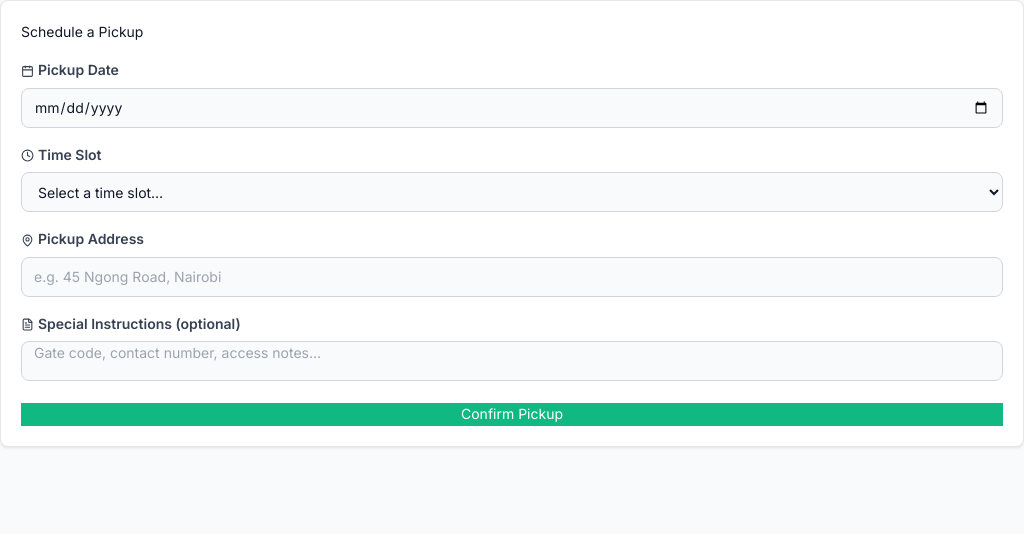
Test: PickupScheduler › clears address error when field is filled
Click the button "Confirm Pickup": [512, 414] box [21, 403, 1003, 426]
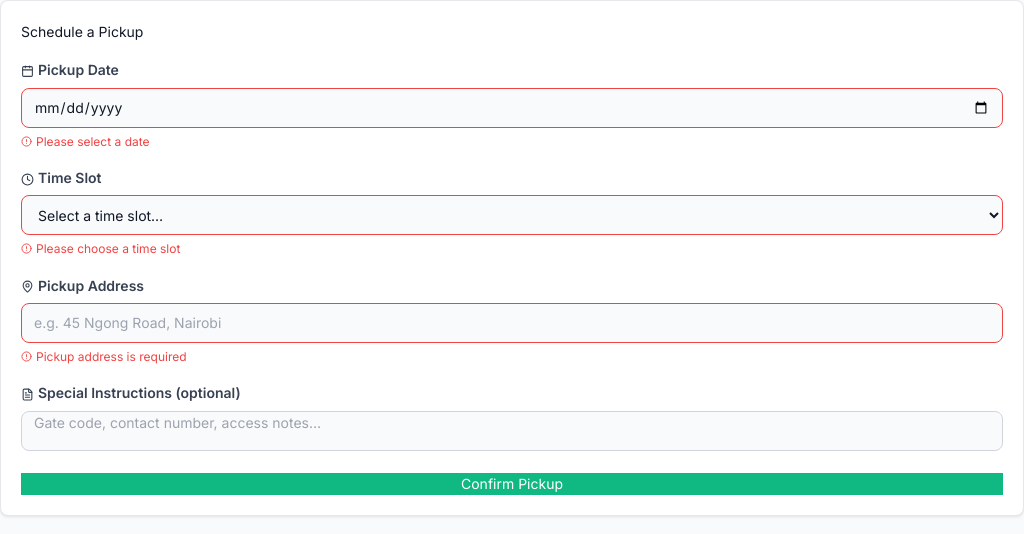
Expected: the text "Pickup address is required" is shown, [21, 349, 187, 364]
In the field labelled "Pickup Address": [512, 323] box [21, 303, 1003, 343], type "Ngong Road"
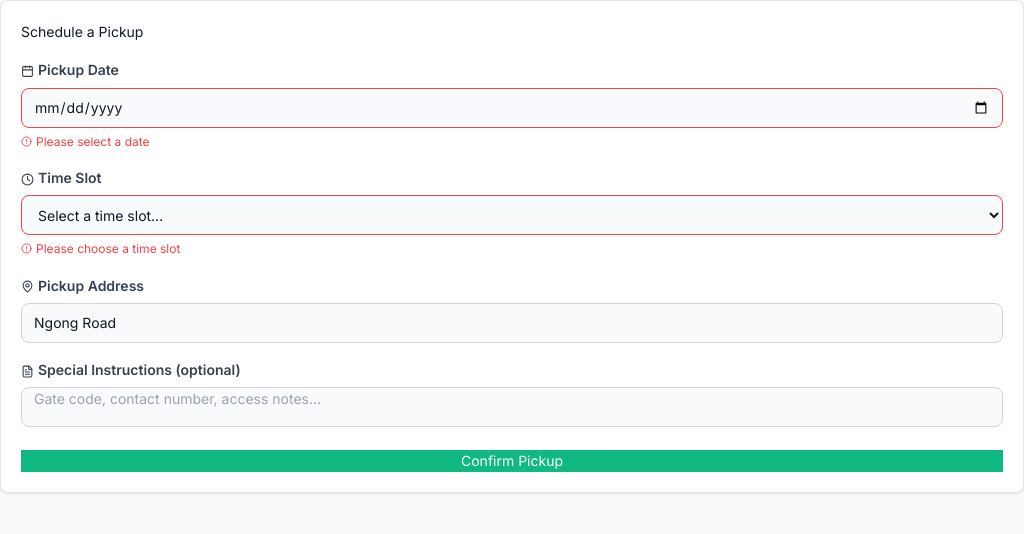
Expected: the text "Pickup address is required" is gone
